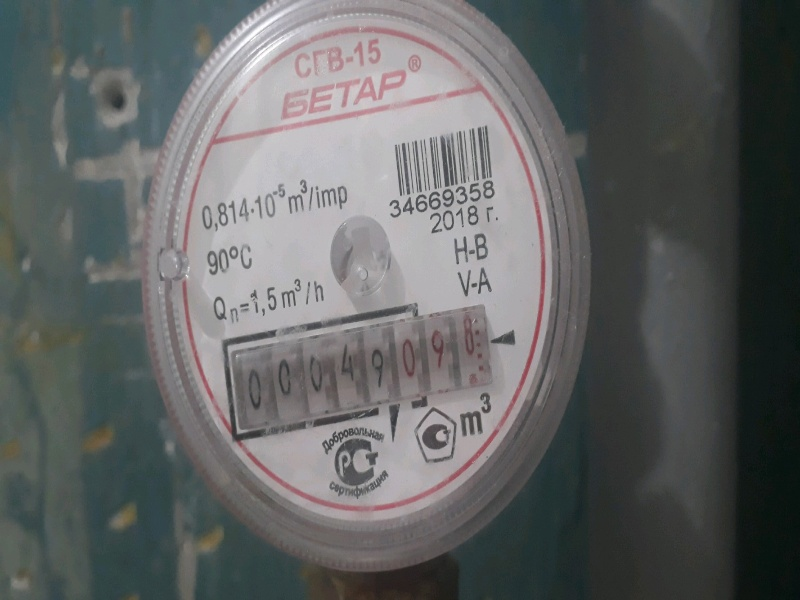meter: (216, 318, 501, 394)
